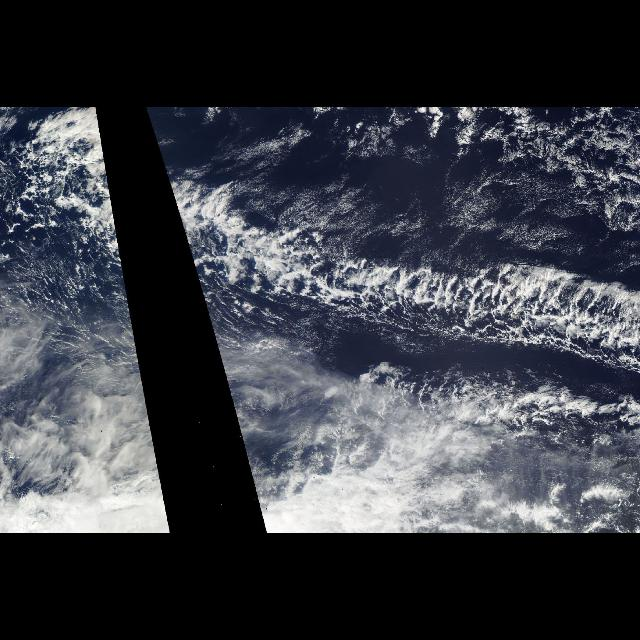Fish: (146, 110, 640, 388), (13, 109, 143, 377)
Sugar: (252, 136, 596, 264)
